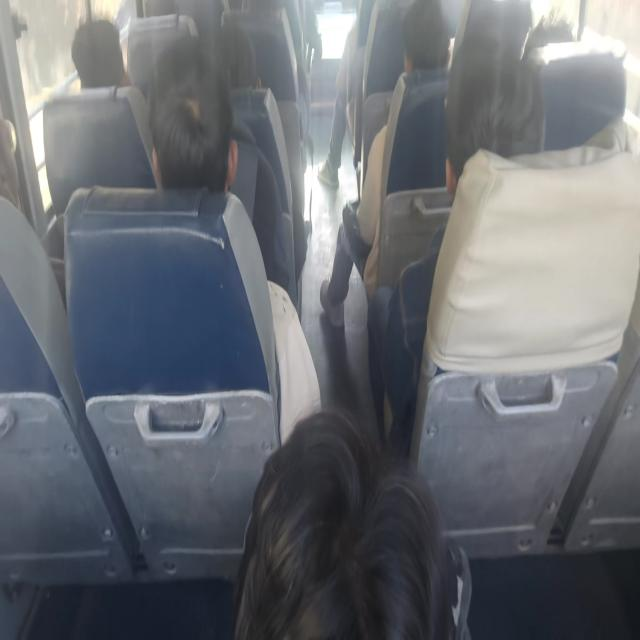person: (366, 11, 545, 454), (146, 35, 322, 443), (232, 407, 472, 638), (319, 0, 451, 328), (317, 0, 405, 189), (70, 17, 130, 89)
